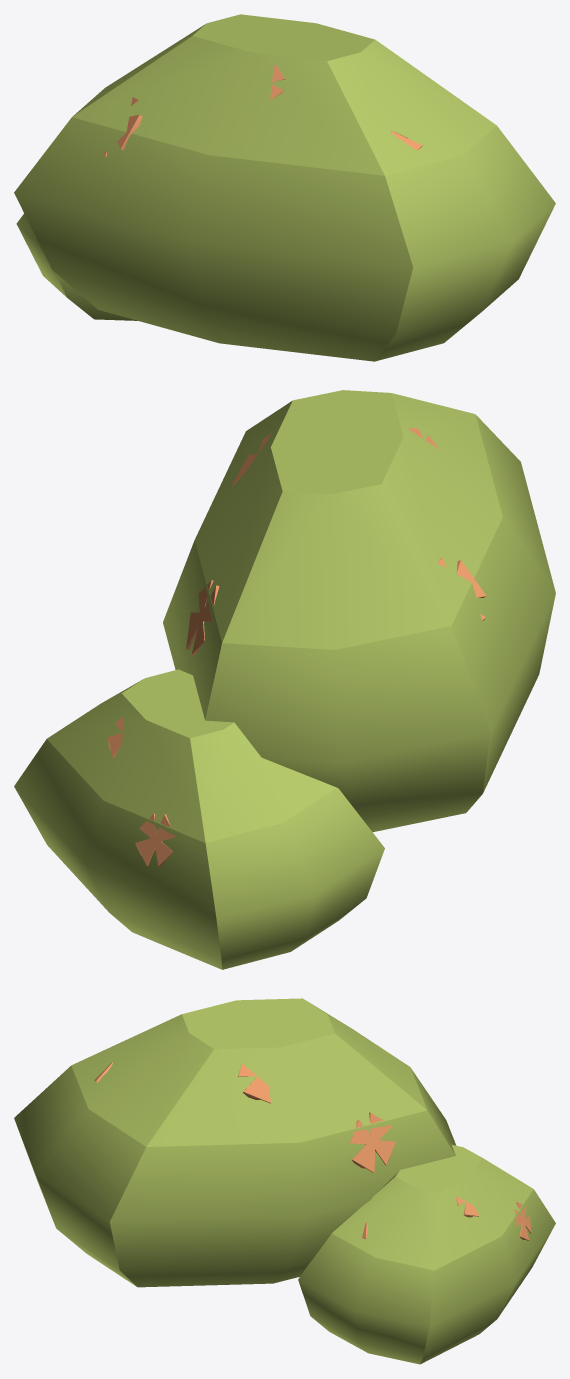
File: bushes_grp_01.fbx
3 renders of one model, top to bottom at view 1: azimuth 30°, elevation 25°; view 2: azimuth 150°, elevation 25°; view 3: azimuth 270°, elevation 25°, orthographic. The views are drawn at different scales.
Parts seen in each view (by area): view 1: bush_geo (×2); view 2: bush_geo (×2), flower_geo6 (×2); view 3: bush_geo (×2), flower_geo6, flower_geo4.
Part boxes in pixels (x1,y1,x2,y2): bush_geo (×2): (14,14,555,361); bush_geo (×2): (14,390,555,969); flower_geo6 (×2): (135,580,219,866); bush_geo (×2): (14,998,555,1364); flower_geo6: (349,1112,395,1172); flower_geo4: (238,1045,270,1103).
Bounding box in the file's own units: 0.00773 × 0.00681 × 0.0112.
